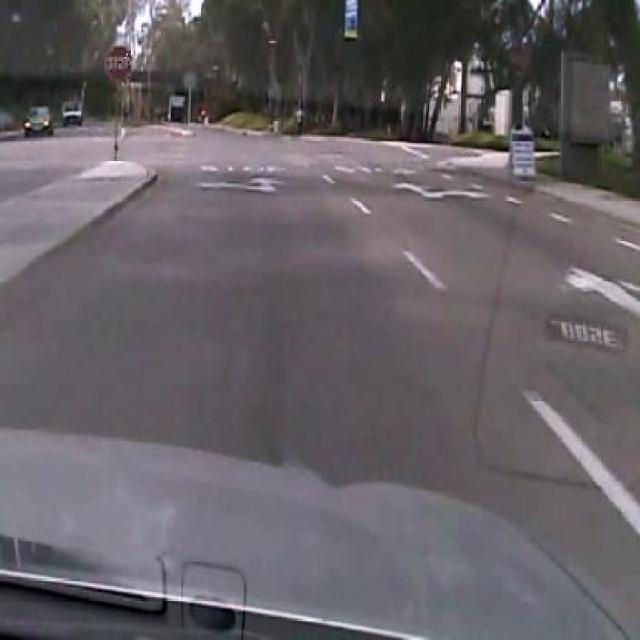stop: (105, 43, 132, 82)
